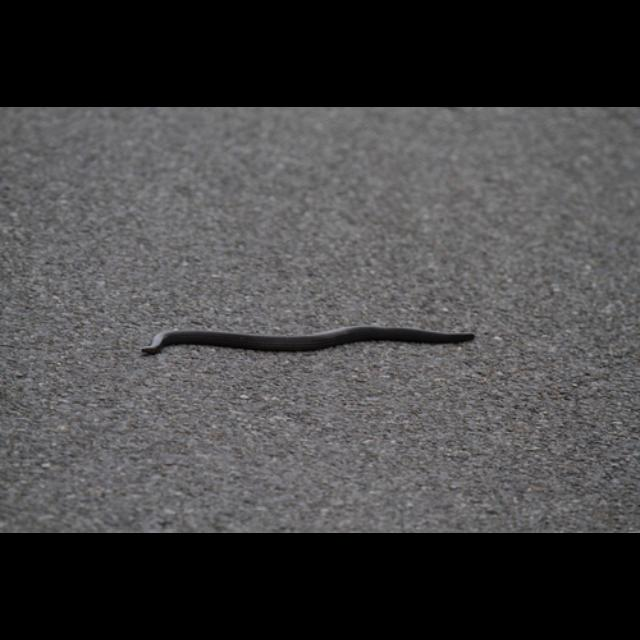snake: (130, 316, 483, 370)
